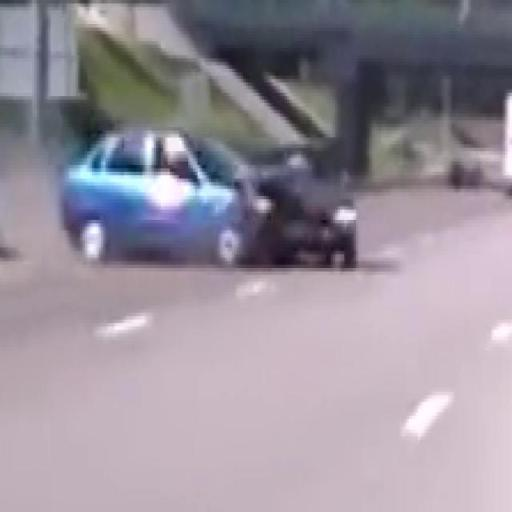小汽车撞小汽车: (60, 122, 358, 268)
